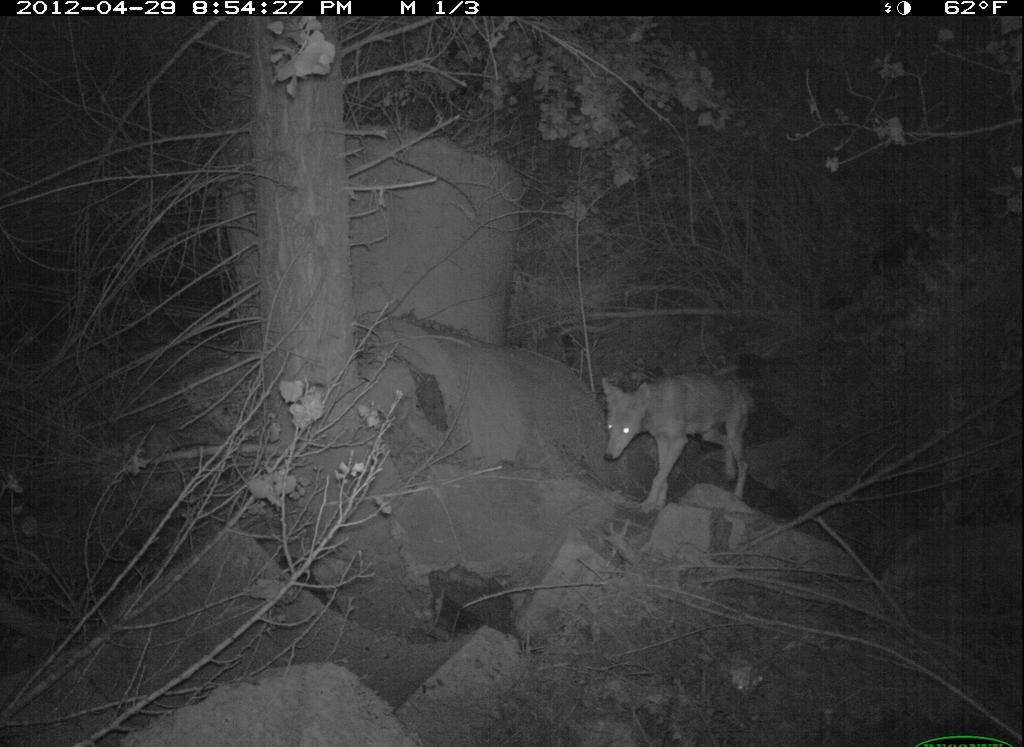coyote: (596, 363, 753, 516)
